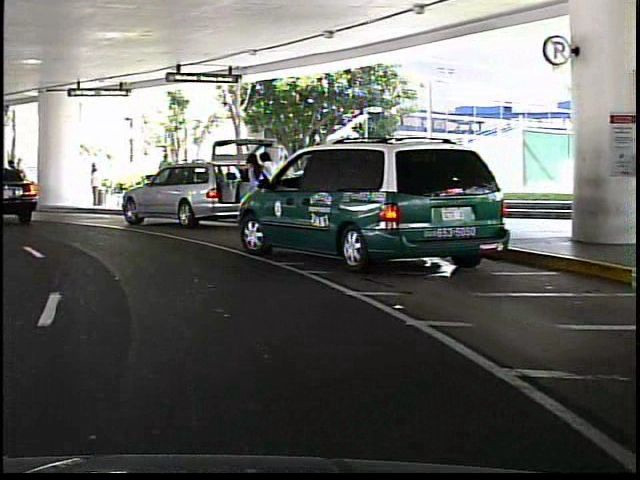person: (240, 148, 260, 226), (153, 148, 172, 204)
